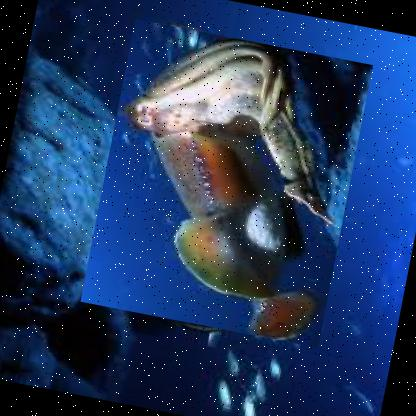colossal_squid: (78, 17, 372, 347)
